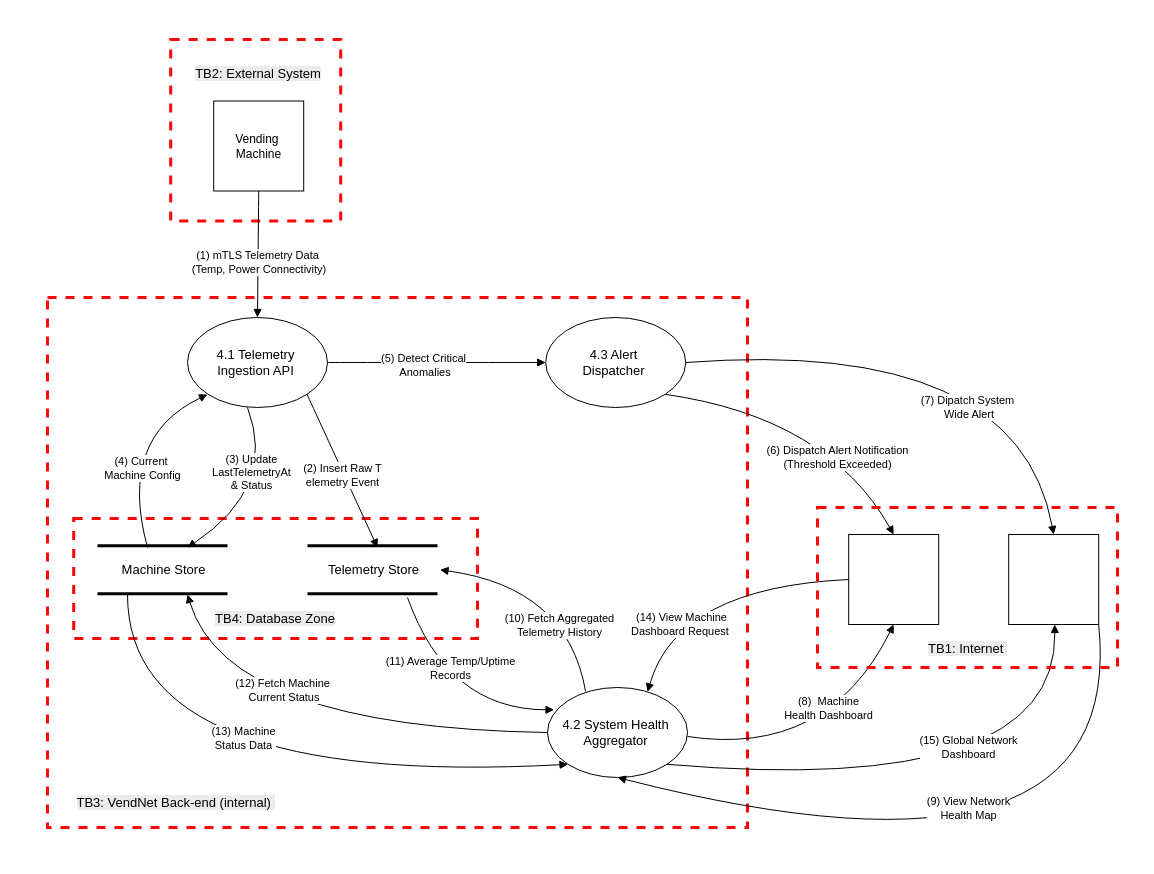
Some shapes in this 1154 by 874 pixel diagram are drawn without their labels. The box of each missing label's shape, as (x1, y1, x2, y2) in pixels:
Administrator: (1008, 534, 1099, 624)
Operator: (848, 534, 939, 624)
